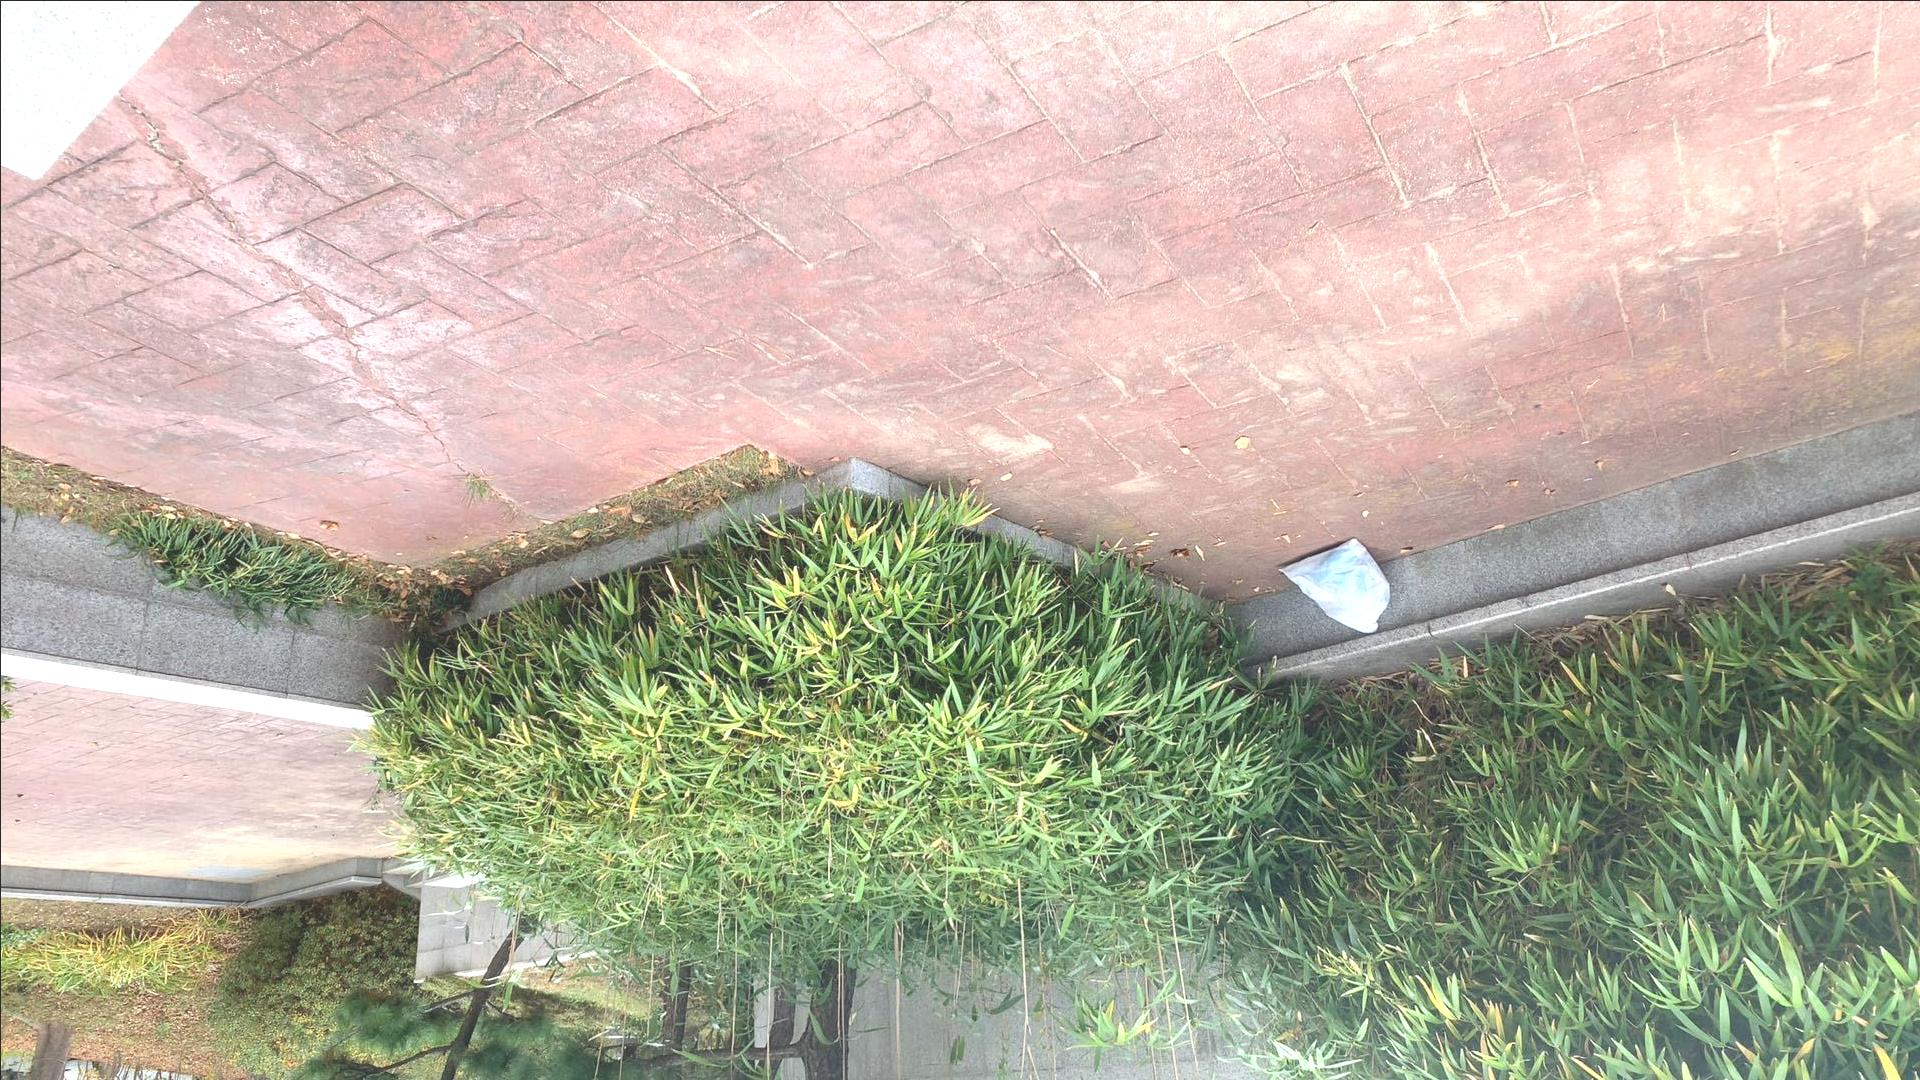white_bag: (1273, 527, 1394, 640)
